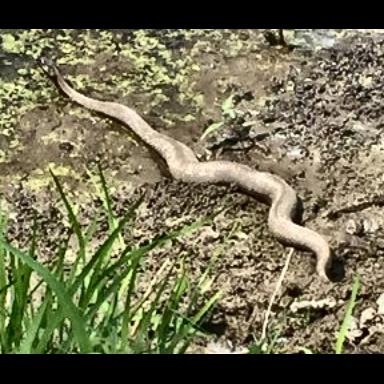snake: (34, 50, 346, 295)
